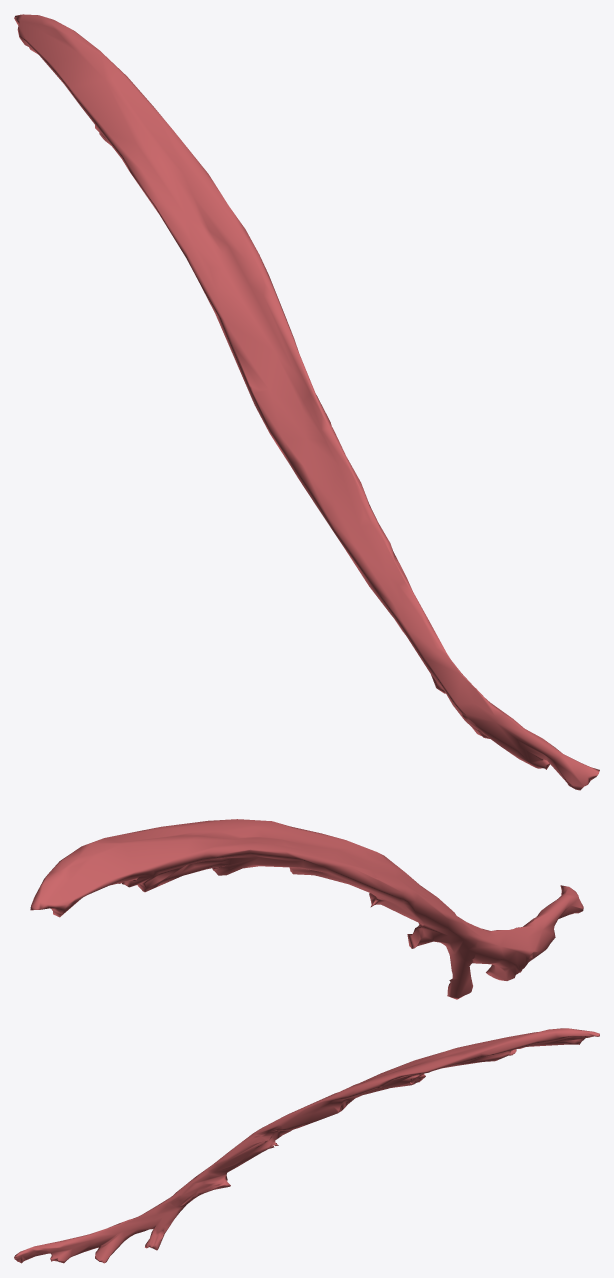
The picture shows the model from 3 angles, top to bottom: view 1: azimuth 30°, elevation 25°; view 2: azimuth 150°, elevation 25°; view 3: azimuth 270°, elevation 25°; orthographic projection. The views are drawn at different scales.
Visible parts, largest first — view 1: 右侧颈最长肌; view 2: 右侧颈最长肌; view 3: 右侧颈最长肌.
Boxes of the visible parts, x1,y1,x2,y2 form: 右侧颈最长肌: (14, 14, 599, 790); 右侧颈最长肌: (30, 819, 583, 999); 右侧颈最长肌: (14, 1028, 599, 1263).
Size of the model in its own units: 0.0282 by 0.1197 by 0.2791.
